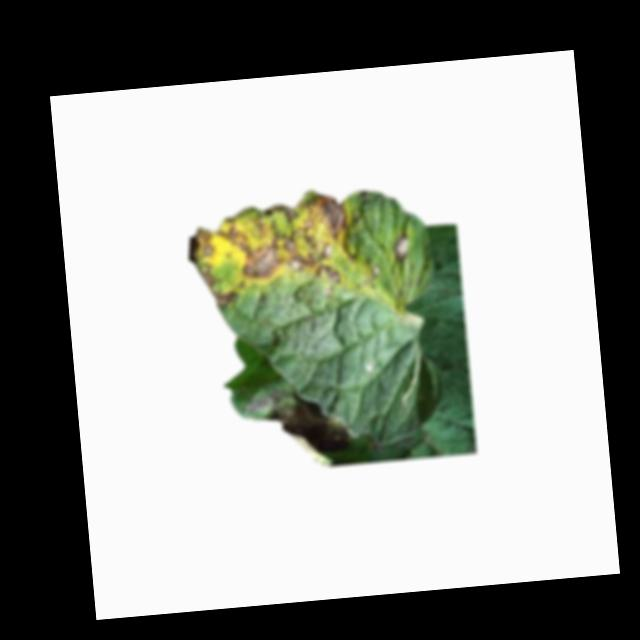Early_blight: (184, 188, 382, 314), (244, 384, 331, 466), (392, 232, 413, 262)
